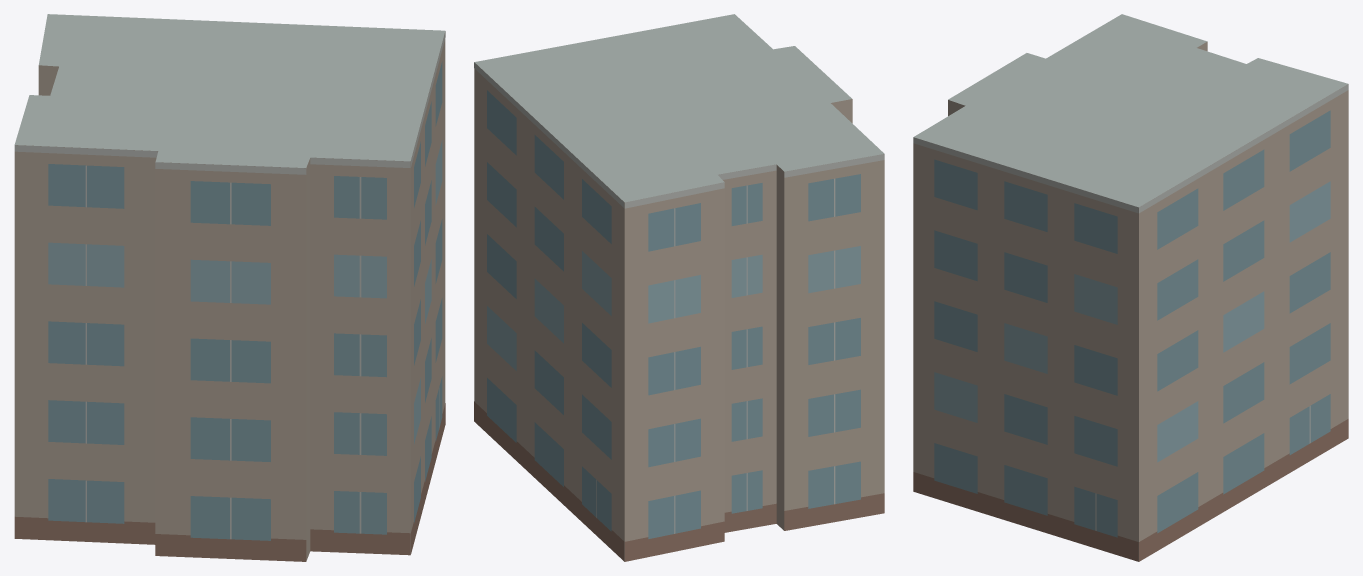
The model's file is survey-upis-32701424.glb.
3 views of the same model, side by side, from view 1: azimuth 30°, elevation 25°; view 2: azimuth 150°, elevation 25°; view 3: azimuth 270°, elevation 25° (orthographic). The views are drawn at different scales.
Visible parts, largest first — view 1: survey-upis-32701424.tmp; view 2: survey-upis-32701424.tmp; view 3: survey-upis-32701424.tmp.
Boxes of the visible parts, x1,y1,x2,y2 form: survey-upis-32701424.tmp: (14, 14, 445, 561); survey-upis-32701424.tmp: (474, 14, 884, 561); survey-upis-32701424.tmp: (913, 14, 1348, 561).
Bounding box in the file's own units: 16.74 × 14.3 × 15.92.
